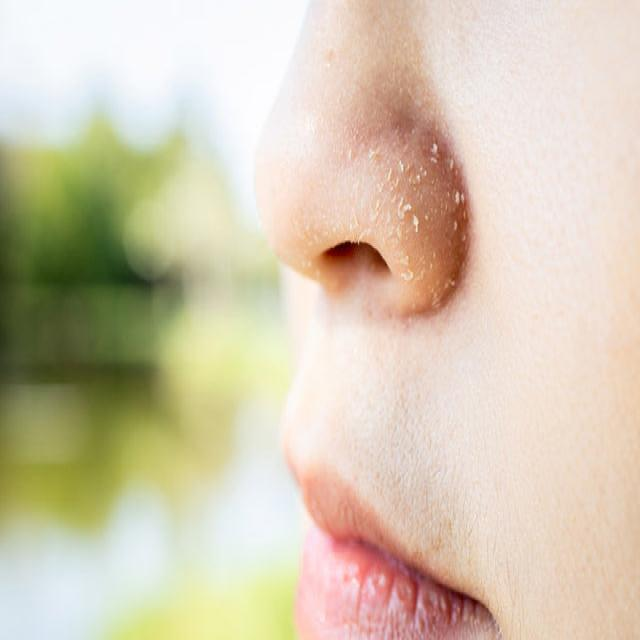Dry-Skin: (277, 116, 499, 298)
